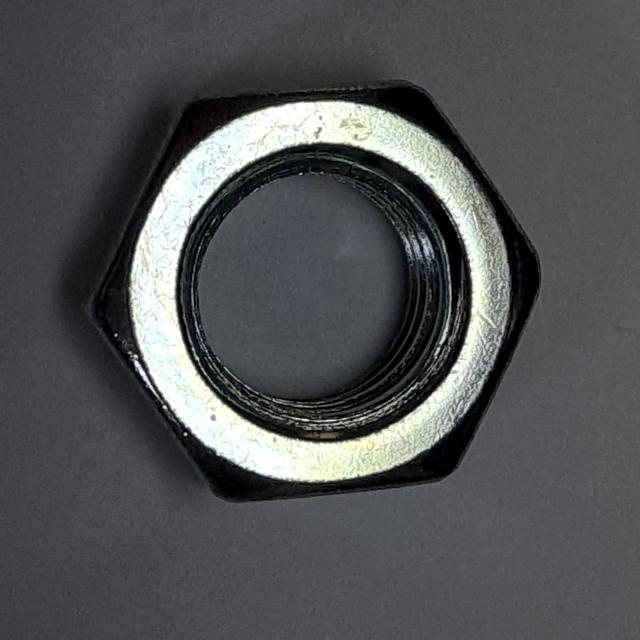Excellent: (57, 66, 555, 514)
